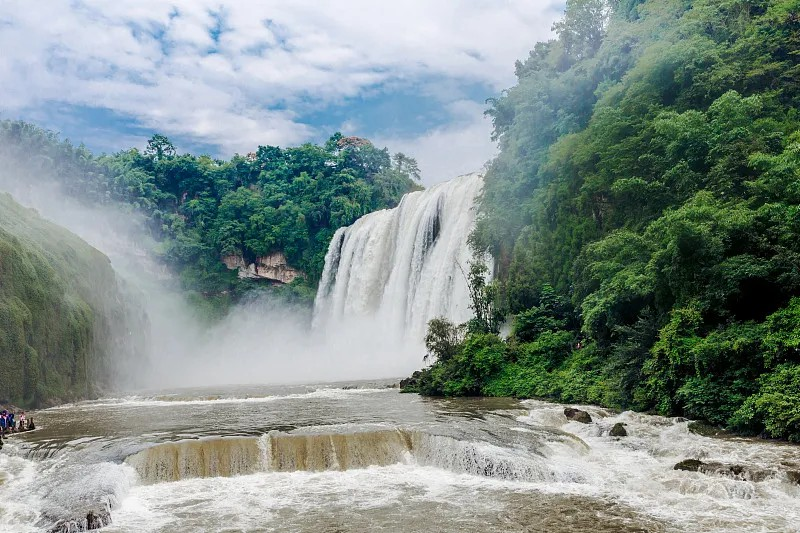Huangguoshu: (312, 173, 494, 381)
